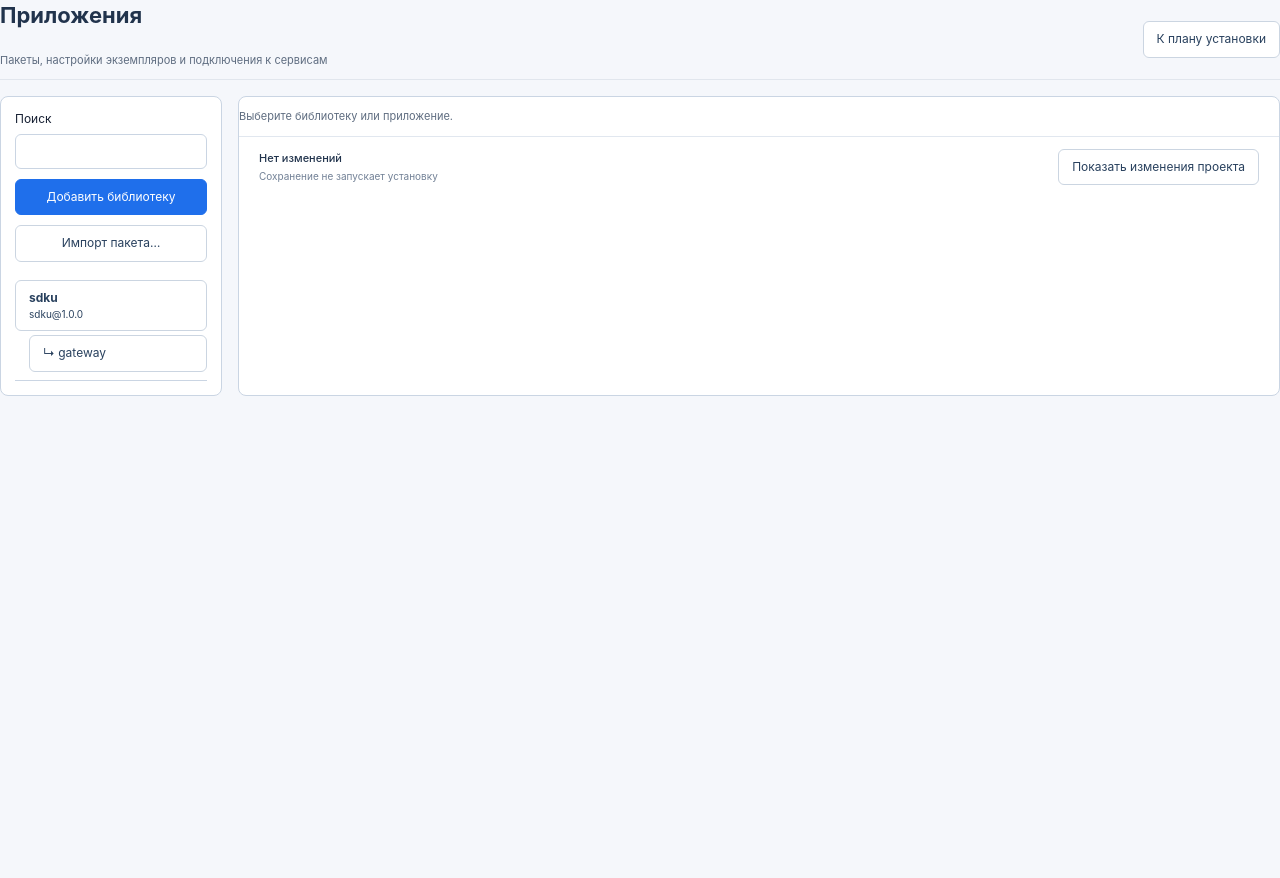
Test case: application editor › uses compact ENV rows and header Add for library common parameters
This screenshot has width=1280, height=878.
Step 1. Click the button "sdku sdku@1.0.0" → click(111, 306), box [15,280,207,331]
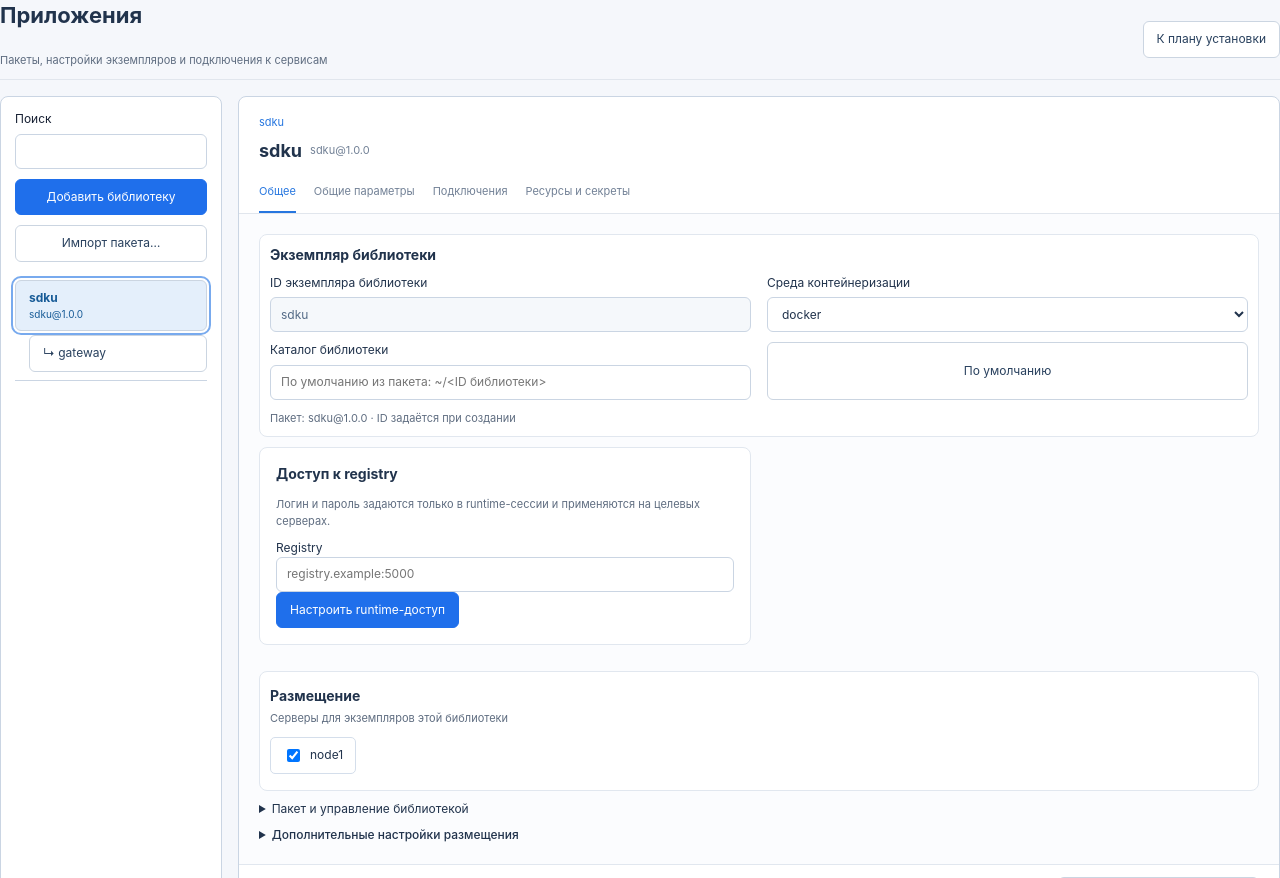
Step 2. Click the button "Общие параметры" → click(364, 192), box [314,172,415,213]
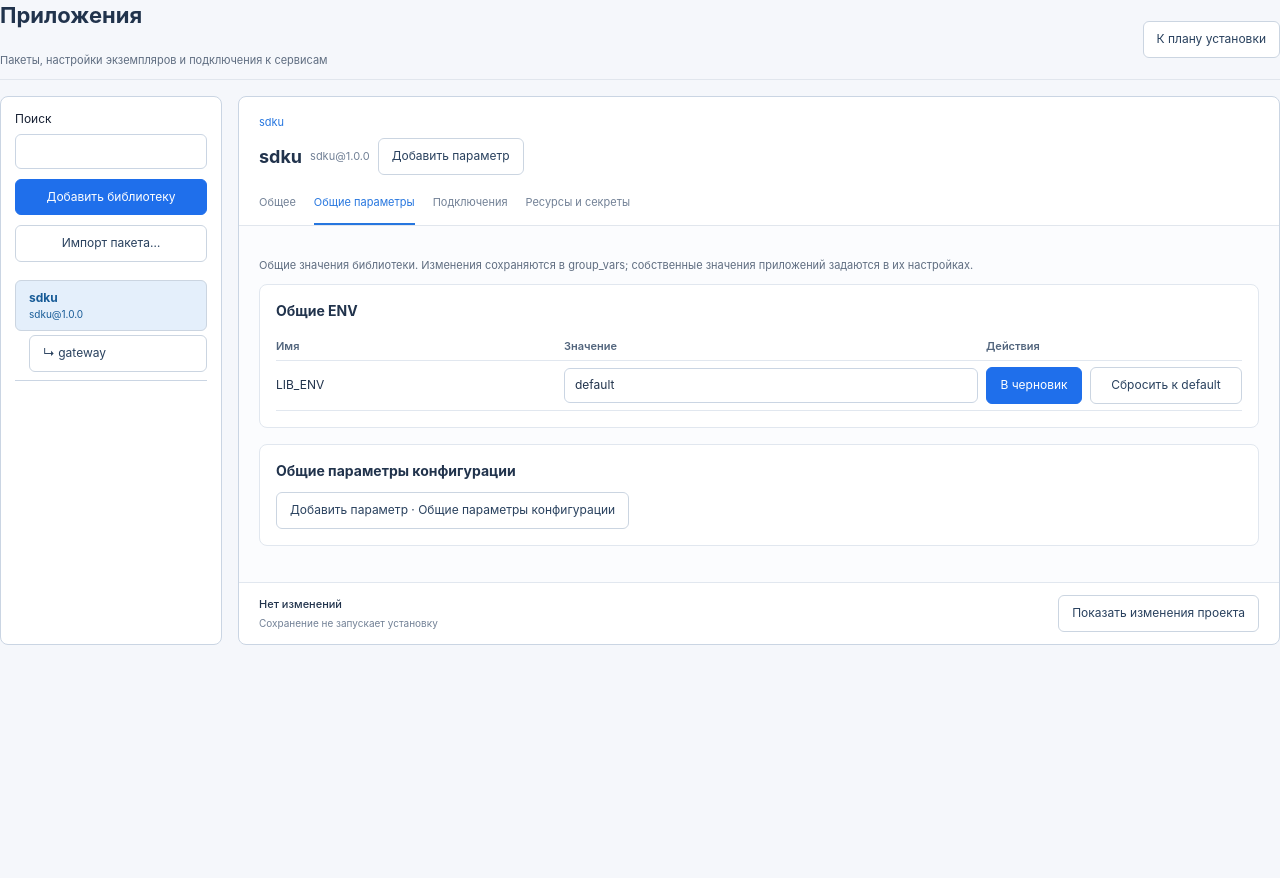
Expected: the element labelled "LIB_ENV" is shown, [276,361,1242,411]
Expected: the field labelled "LIB_ENV" holds "default"
Expected: the header "Добавить параметр" is shown, [239,97,1279,226]
Step 3. Replace the text in the field labelled "LIB_ENV" with "false" → (771, 386), box [564,368,978,403]
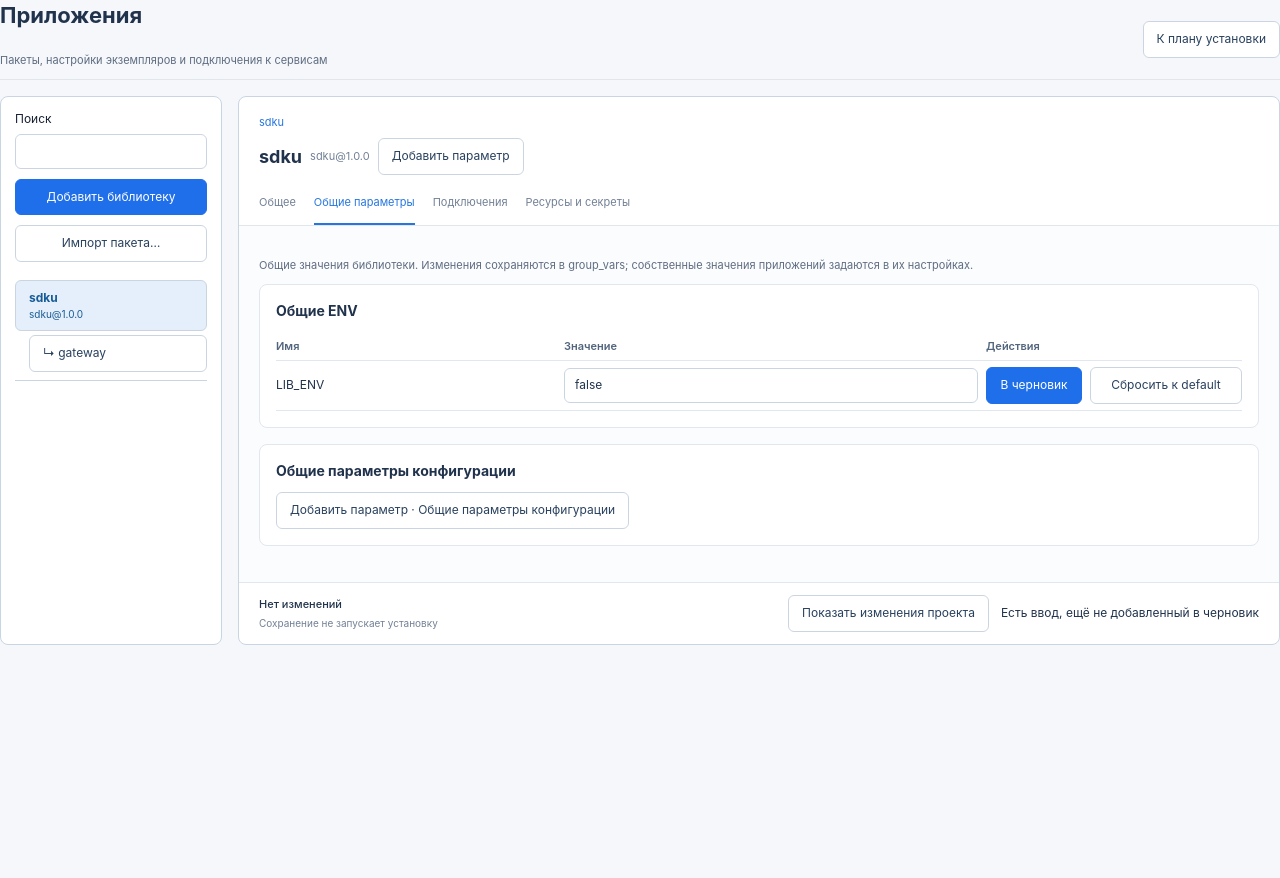
Step 4. Click the button "В черновик" → click(1034, 386), box [986,367,1082,404]
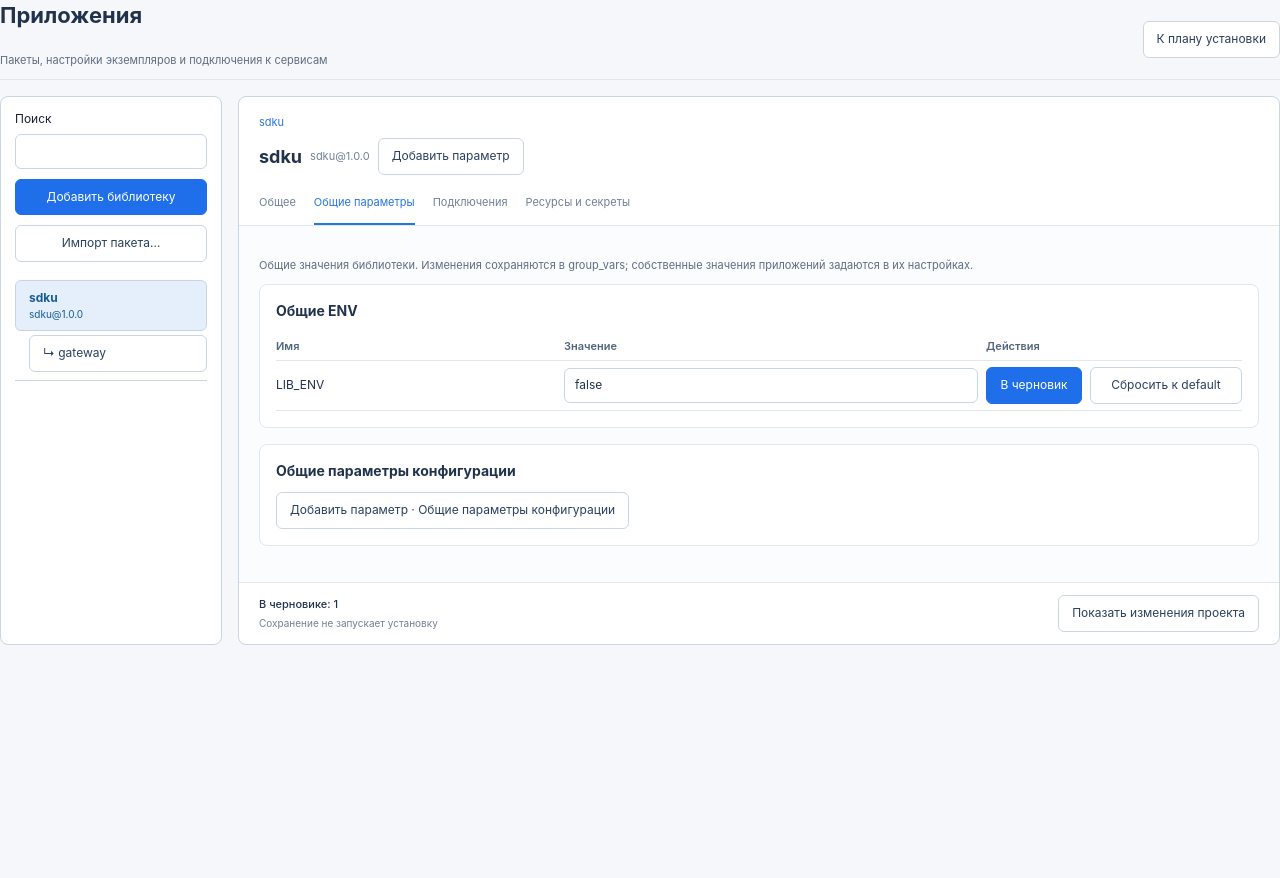
Expected: the field labelled "LIB_ENV" holds "false", [564,368,978,403]
Step 5. Click the button "Сбросить к default" → click(1166, 386), box [1090,367,1242,404]
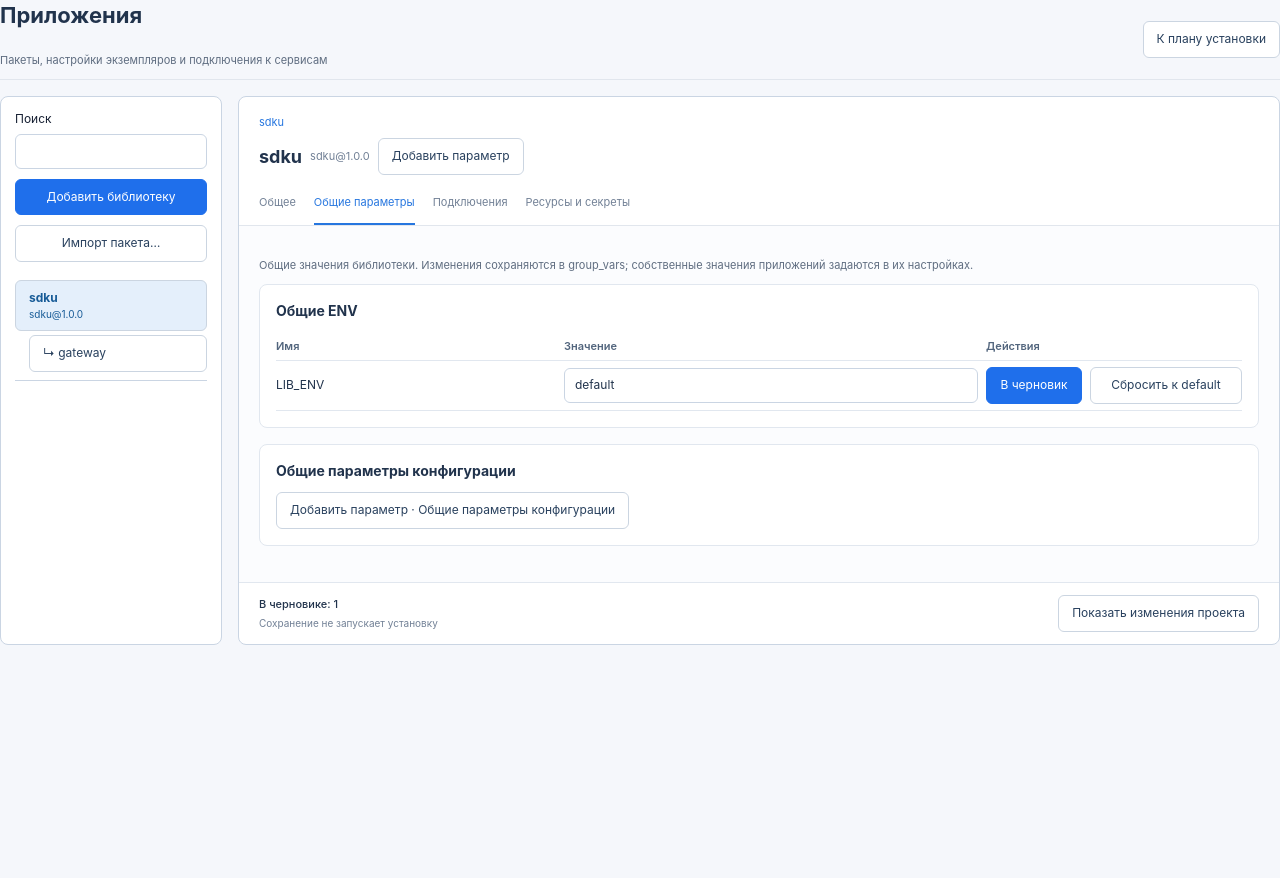
Expected: the field labelled "LIB_ENV" holds "default", [564,368,978,403]
